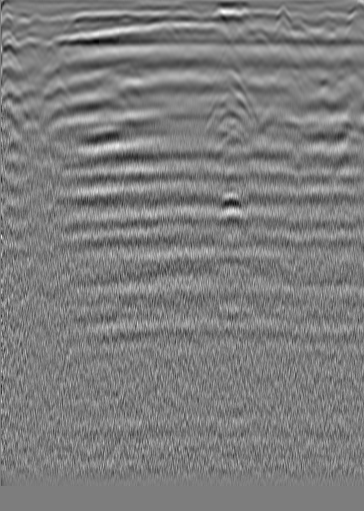가스: (214, 188, 245, 213)
상수: (311, 19, 331, 39)
오수: (29, 13, 49, 33)
우수: (155, 24, 175, 44)
